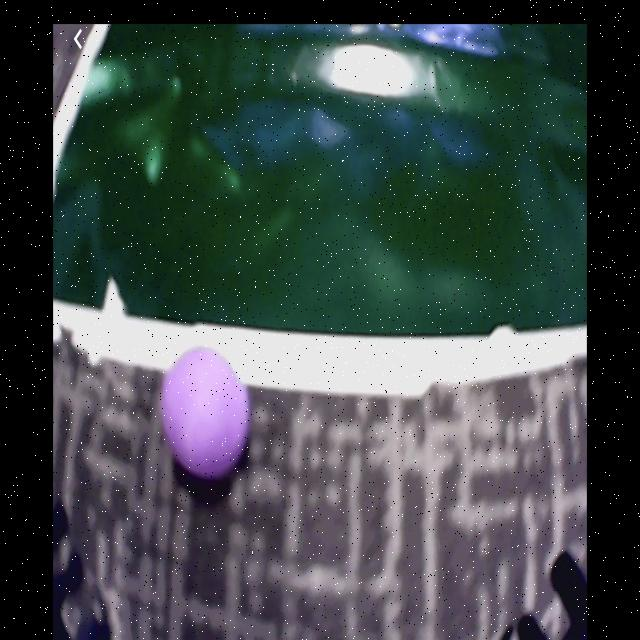ball: (164, 348, 250, 476)
